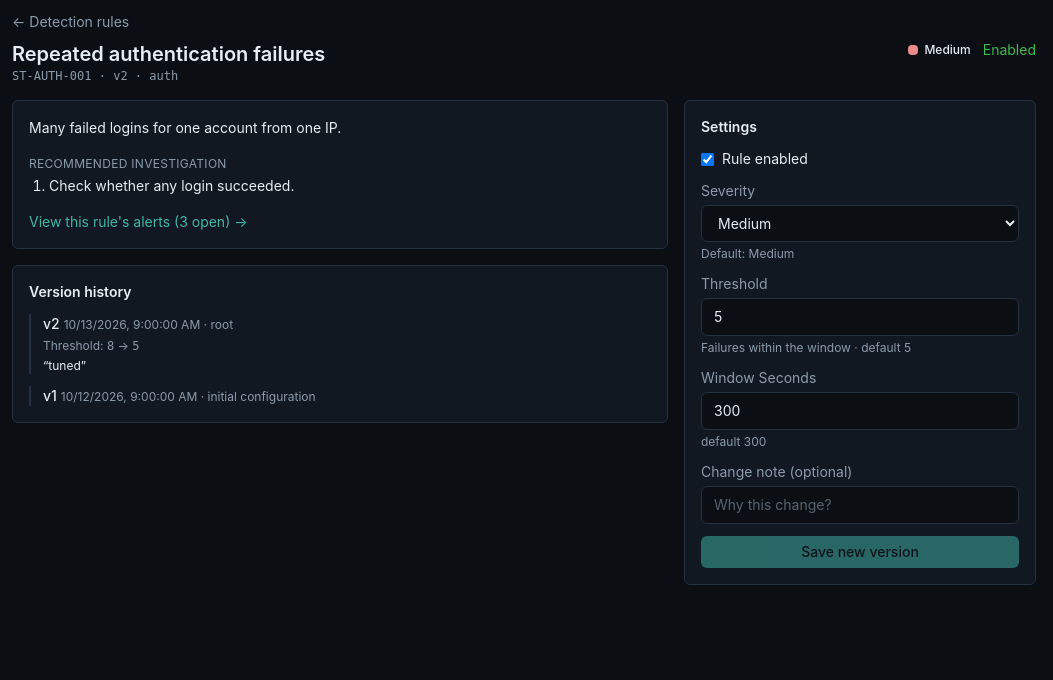
Test: RuleDetailPage › shows validation errors from the server
Replace the text in the number field labelled "Threshold Failures within the window · default 5" with "3" at (860, 317), box left=701, top=298, right=1019, bottom=336
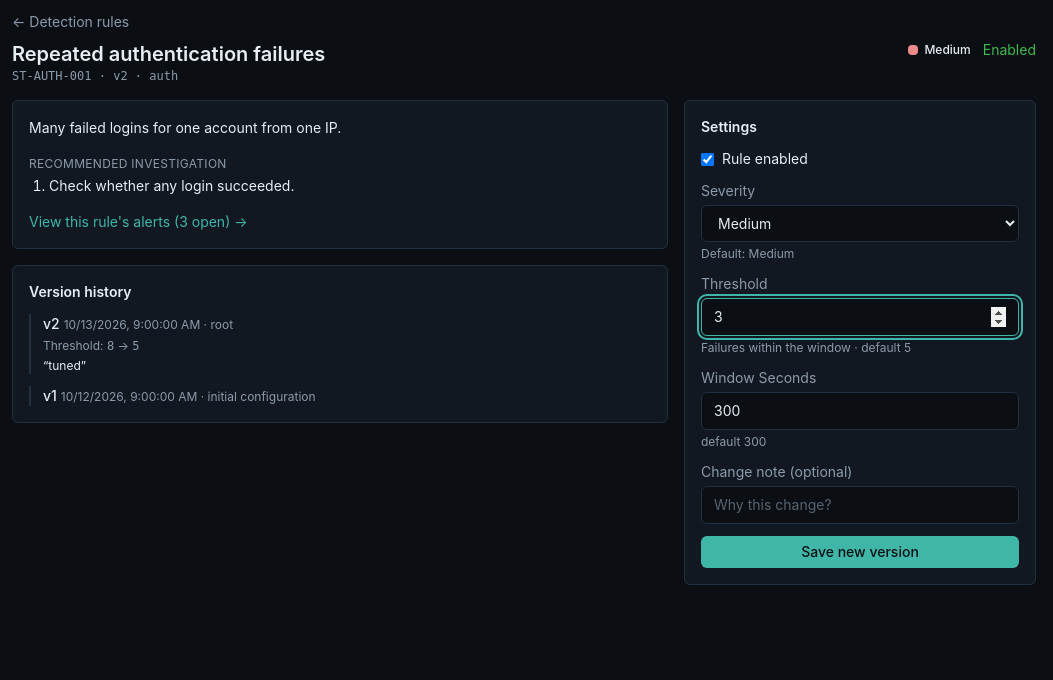
Click the button "Save new version" at (860, 552), box left=701, top=536, right=1019, bottom=568
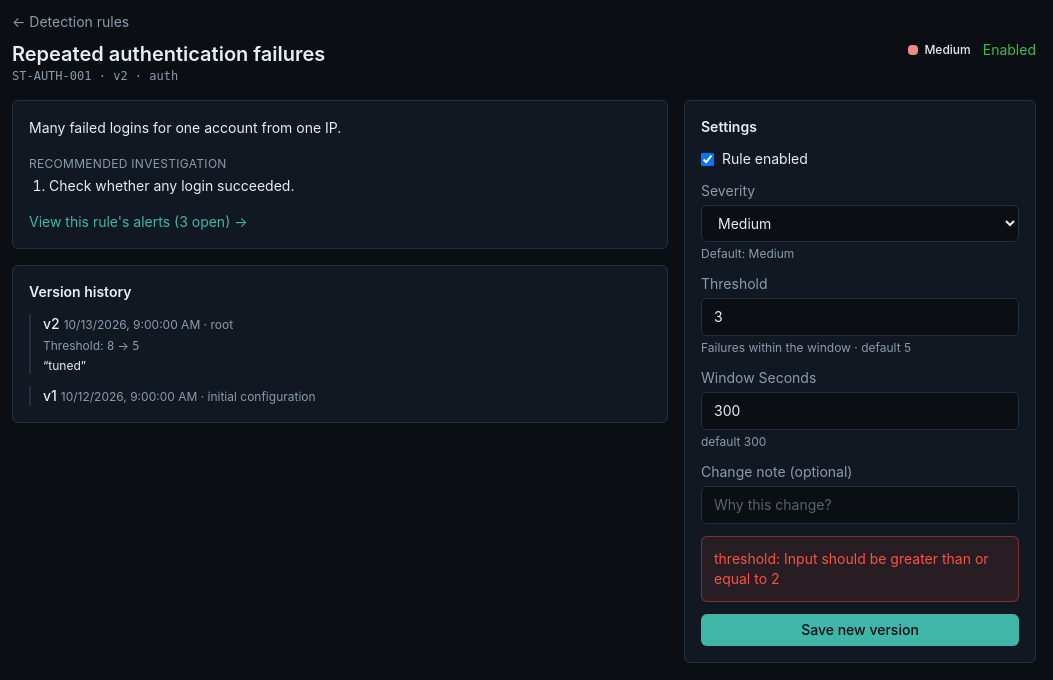
Now the message reads "threshold: Input should be greater than or equal to 2", box left=714, top=550, right=989, bottom=587
